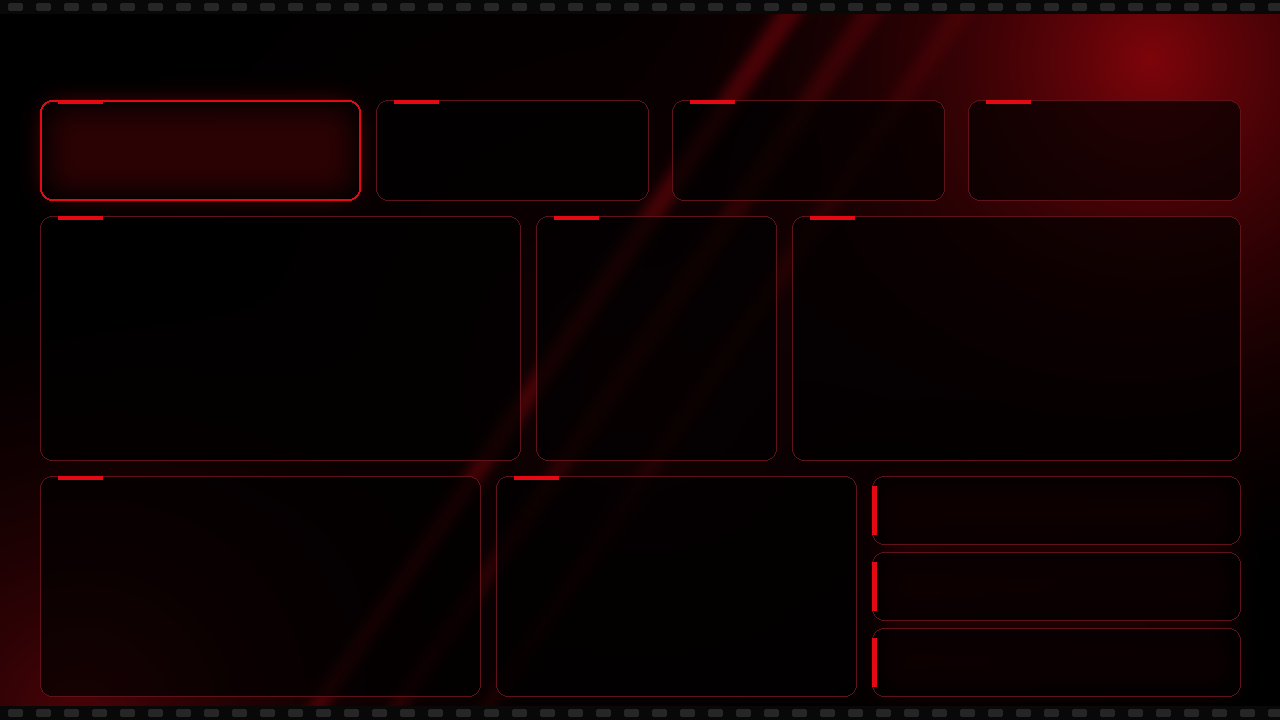

The page's visual inventory and layout, read from the dashboard file:
{"tool":"powerbi","page":{"name":"Page 1","canvas":[1920,1080],"ordinal":0},"visuals":[{"type":"textbox","box":[40,26,640,50],"z":0},{"type":"slicer","fields":{"Values":["netflix_clean.type"]},"box":[701,32,260,44],"z":1000},{"type":"textbox","box":[40,72,520,24],"z":3000},{"type":"cardVisual","fields":{"Data":["netflix_clean.Total Titles"]},"box":[65.6,152.4,470,145],"z":4000},{"type":"cardVisual","fields":{"Data":["netflix_clean.Total Movies"]},"box":[560.3,152.4,419.7,145.4],"z":5000},{"type":"cardVisual","fields":{"Data":["netflix_clean.Total Countries"]},"box":[1460.6,152.4,405.6,145.4],"z":6000},{"type":"cardVisual","fields":{"Data":["netflix_clean.Total TV Shows"]},"box":[1012.8,152.4,403.3,145.4],"z":7000},{"type":"areaChart","title":"Titles added per year","fields":{"Category":["netflix_clean.year_added"],"Y":["netflix_clean.Total Titles"]},"box":[60.7,326.4,719.3,364.3],"z":8000},{"type":"donutChart","title":"Movies vs TV shows","fields":{"Category":["netflix_clean.type"],"Y":["netflix_clean.Total Titles"]},"box":[804,326.5,362,364],"z":9000},{"type":"map","title":"Titles by country","fields":{"Category":["netflix_countries.country"],"Size":["CountNonNull(netflix_countries.show_id)"]},"box":[1190,326.2,667.7,363.8],"z":10000},{"type":"clusteredBarChart","title":"Top genres","fields":{"Category":["netflix_genres.genre"],"Y":["CountNonNull(netflix_genres.show_id)"]},"box":[60.7,716,657.3,326.7],"z":11000},{"type":"clusteredColumnChart","title":"Rating distribution","fields":{"Category":["netflix_clean.rating"],"Y":["netflix_clean.Total Titles"]},"box":[744.4,715.6,538.9,326.7],"z":12000},{"type":"textbox","box":[1312,714,548,100],"z":13000},{"type":"textbox","box":[1312.9,834.6,546.3,91.4],"z":14000},{"type":"textbox","box":[1312.9,949.5,546.3,91.4],"z":15000},{"type":"slicer","fields":{"Values":["netflix_clean.year_added"]},"box":[980,32.8,260.2,63.3],"z":15001}]}

Visuals, with their boxes in screenshot pixels (x1, y1, x2, y2), scaled from the page's 1920x1080 canvas onto the 1280x720 screenshot:
textbox: detection(27, 17, 453, 51)
slicer - netflix_clean.type: detection(467, 21, 641, 51)
textbox: detection(27, 48, 373, 64)
cardVisual - netflix_clean.Total Titles: detection(44, 102, 357, 198)
cardVisual - netflix_clean.Total Movies: detection(374, 102, 653, 199)
cardVisual - netflix_clean.Total Countries: detection(974, 102, 1244, 199)
cardVisual - netflix_clean.Total TV Shows: detection(675, 102, 944, 199)
"Titles added per year" areaChart: detection(40, 218, 520, 460)
"Movies vs TV shows" donutChart: detection(536, 218, 777, 460)
"Titles by country" map: detection(793, 217, 1238, 460)
"Top genres" clusteredBarChart: detection(40, 477, 479, 695)
"Rating distribution" clusteredColumnChart: detection(496, 477, 856, 695)
textbox: detection(875, 476, 1240, 543)
textbox: detection(875, 556, 1239, 617)
textbox: detection(875, 633, 1239, 694)
slicer - netflix_clean.year_added: detection(653, 22, 827, 64)
